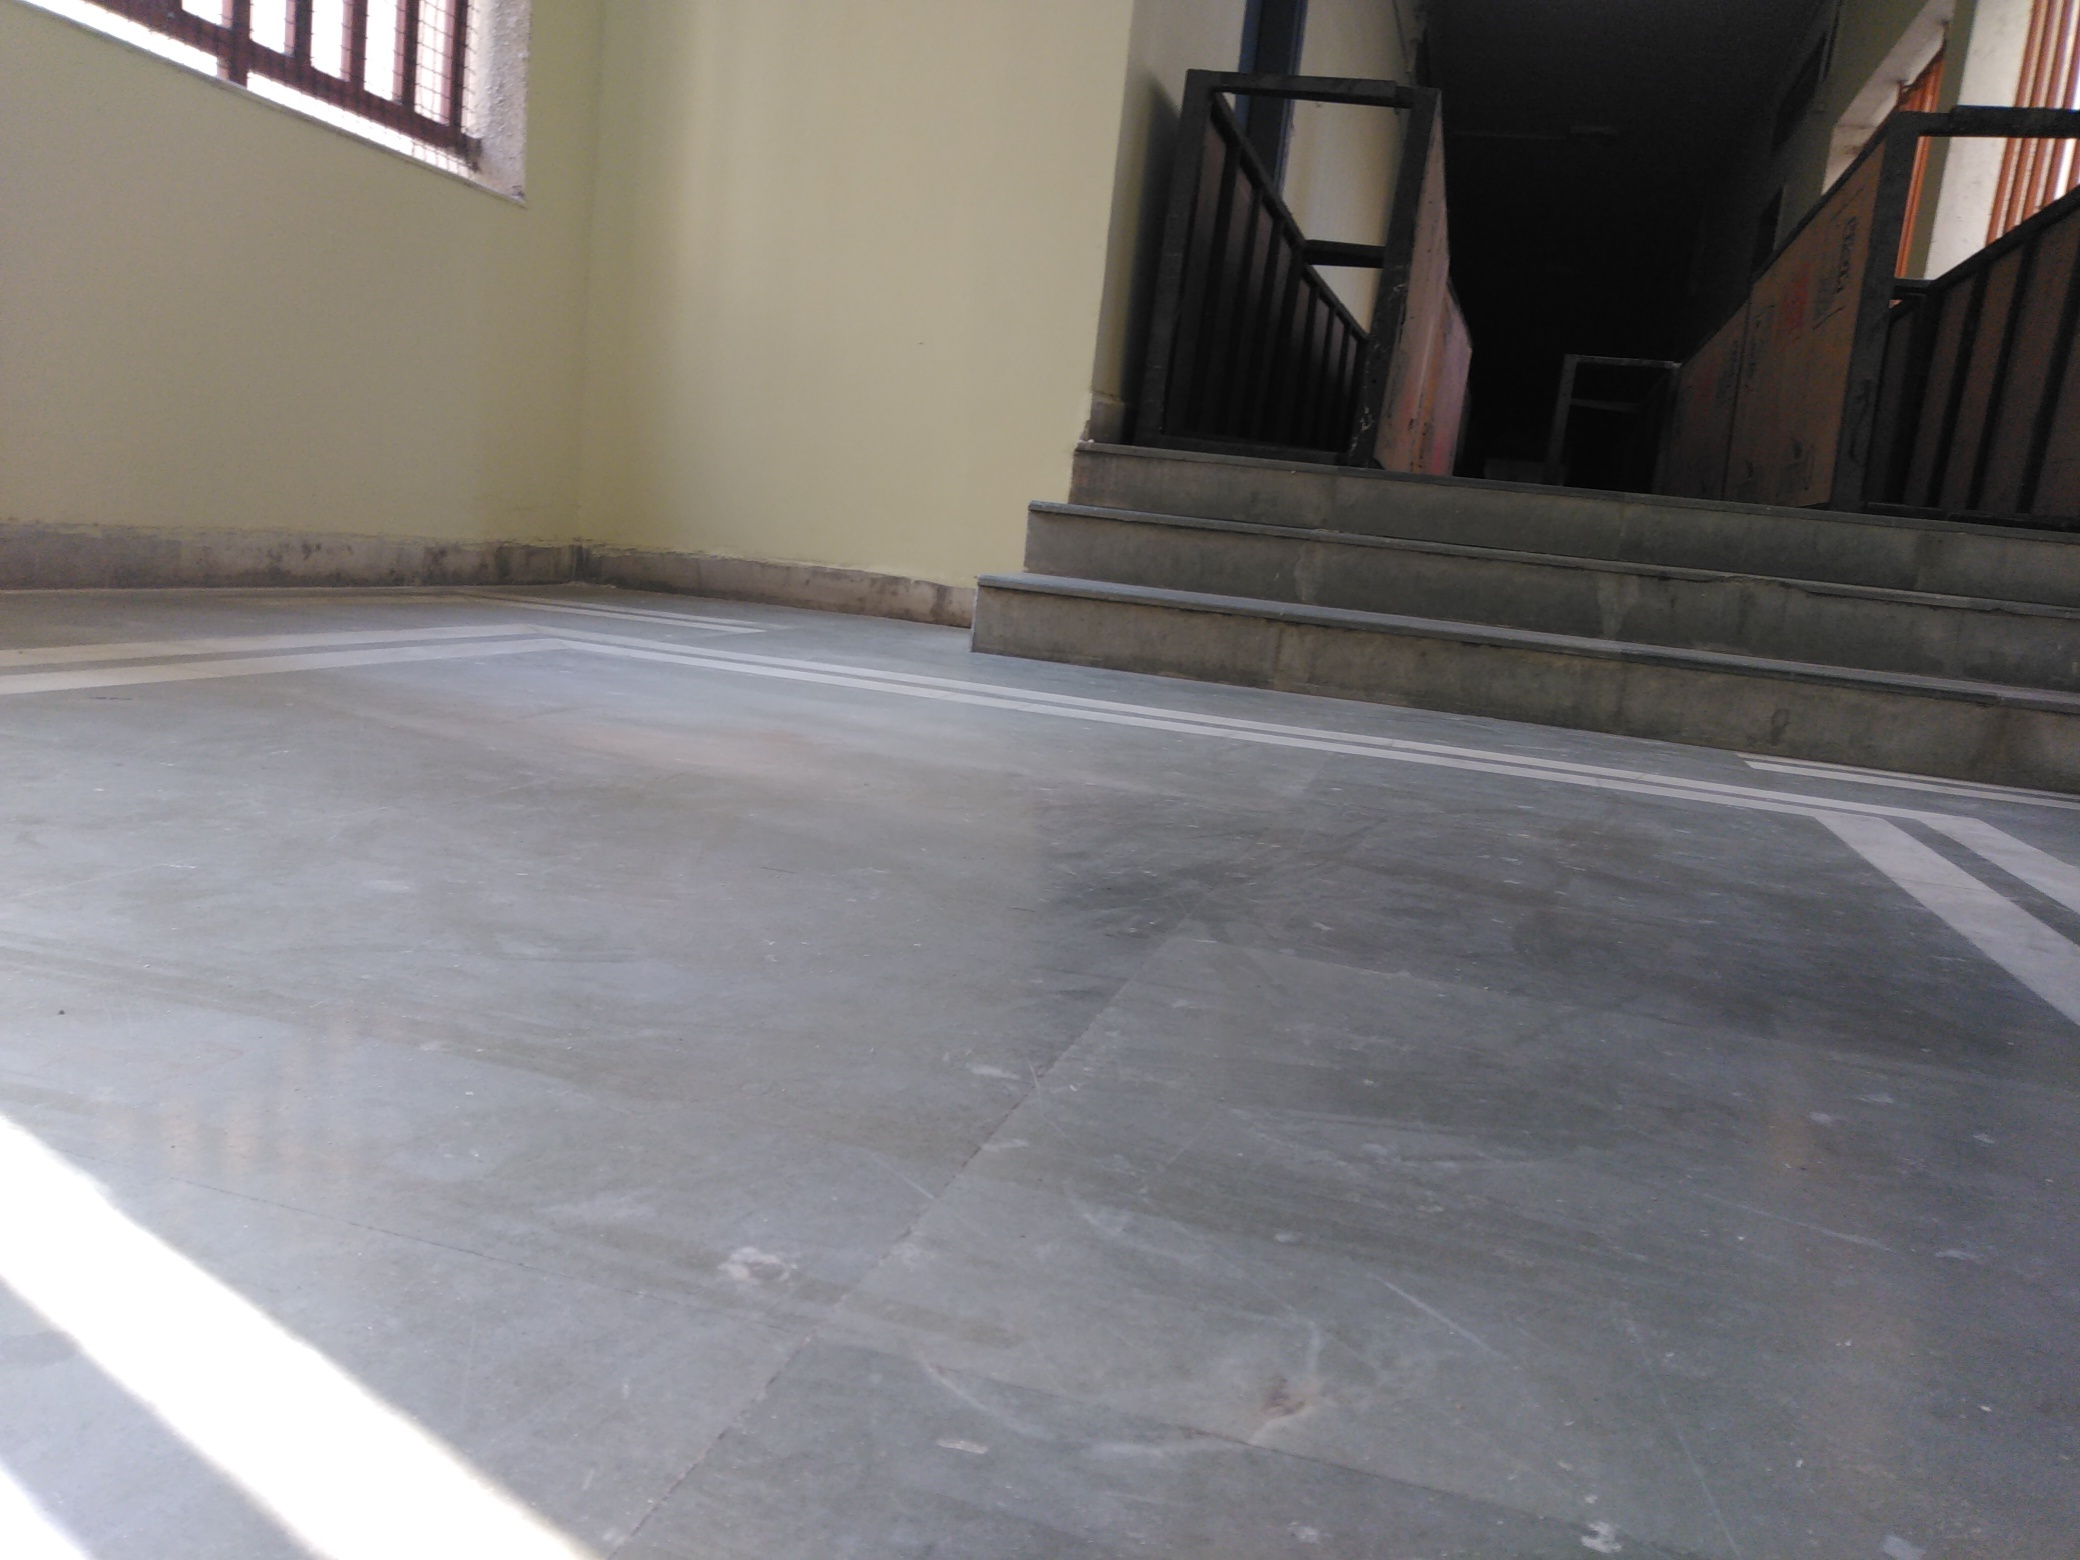stairs_up: (970, 447, 2080, 713)
